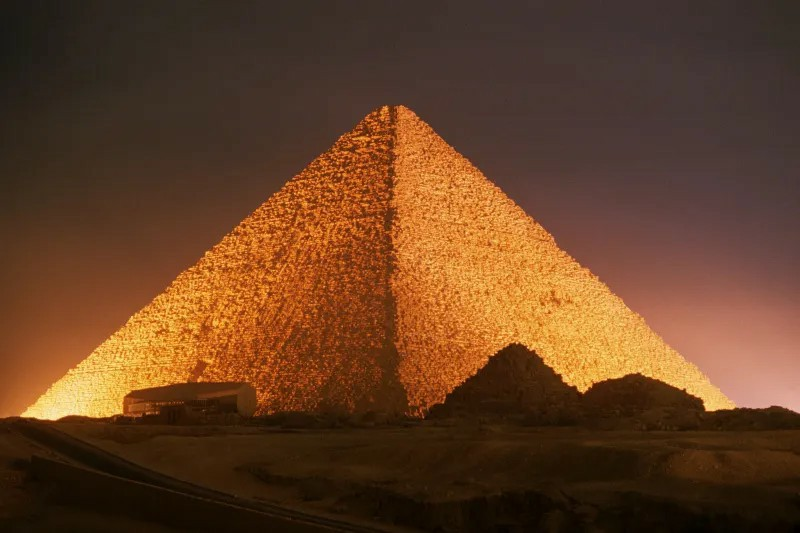Pyramid: (17, 103, 737, 420)
